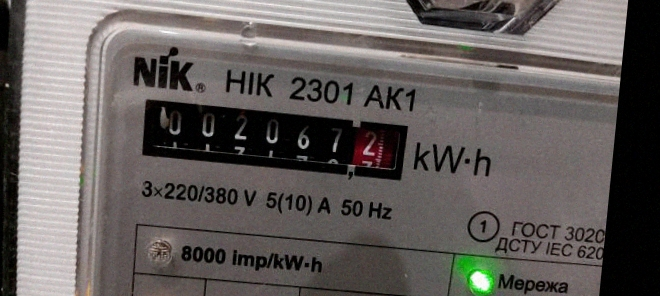0: (163, 107, 184, 138), (260, 114, 281, 144), (197, 108, 217, 139)
2: (358, 127, 379, 158), (230, 112, 250, 142)
6: (293, 121, 313, 151)
7: (325, 124, 344, 155)
screen: (124, 85, 423, 195)
